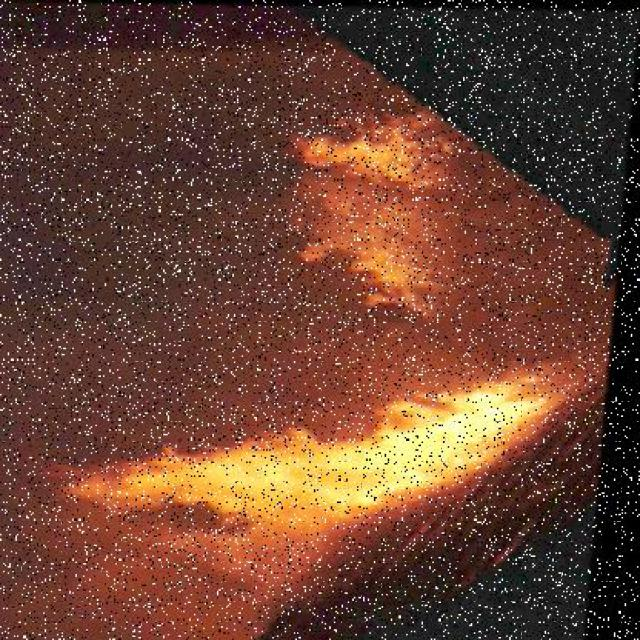fire: (88, 84, 596, 620)
